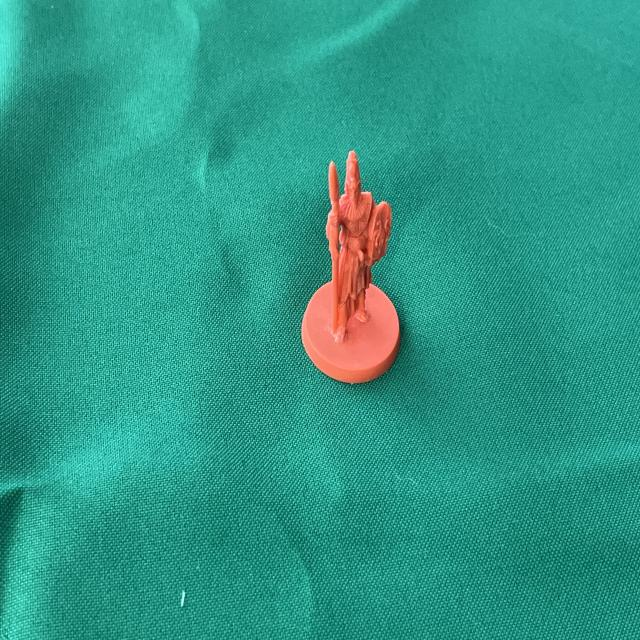amon_follower: (301, 152, 400, 383)
